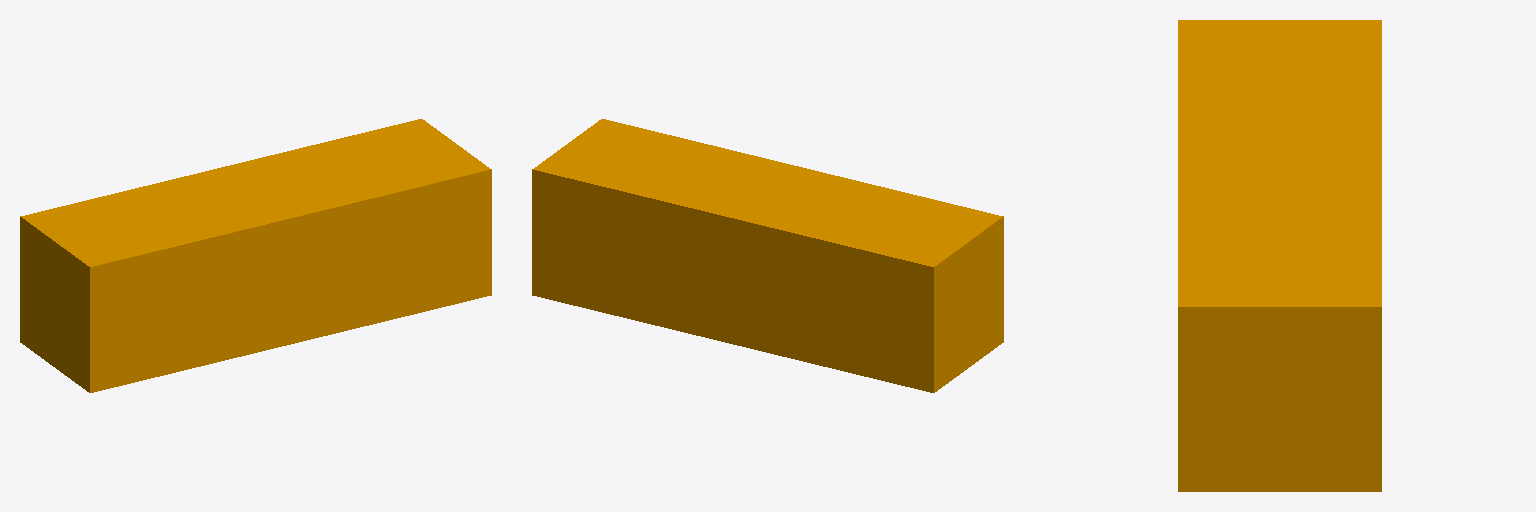
The robot description file, URDF, robot "cuboid":
<?xml version="1.0"?>
<robot name="cuboid">    
    <link name="cuboid_link">
        <visual>
            <origin rpy="0 0 0" xyz=" 0 0 0 "/>
            <geometry>
                <mesh filename="package://reconcycle_description/meshes/cuboid.obj" scale="1 1 1"/>
            </geometry>
        </visual>
        <collision>
            <origin rpy="0 0 0" xyz="0.0 0.0 0"/>
            <geometry>
                <mesh filename="package://reconcycle_description/meshes/cuboid.obj" scale="1 1 1"/>
            </geometry>
        </collision>
        <inertial>
            <origin xyz="0 0 0" rpy="0 0 0"/>
            <mass value="0.2"/>
            <inertia ixx="2" ixy="0.0" ixz="0.0" iyy="2" iyz="0.0" izz="2"/>
        </inertial>
    </link>
</robot>

--- Facts derived from the render (not from the file) ---
3 views of the same robot in one strip: view 1: azimuth 30°, elevation 25°; view 2: azimuth 150°, elevation 25°; view 3: azimuth 270°, elevation 25° (orthographic).
Model cuboid with 1 links and 0 joints (none), rooted at cuboid_link, posed every joint at zero.
Links seen in each view (by area): view 1: cuboid_link; view 2: cuboid_link; view 3: cuboid_link.
Boxes of the visible links, x1,y1,x2,y2 form: cuboid_link: [20, 119, 491, 392]; cuboid_link: [532, 119, 1003, 392]; cuboid_link: [1178, 20, 1381, 491].
Bounding box of the posed robot: 20 × 6 × 6 m (x, y, z).
1 mesh visuals loaded from 1 distinct referenced files (1 OBJ).